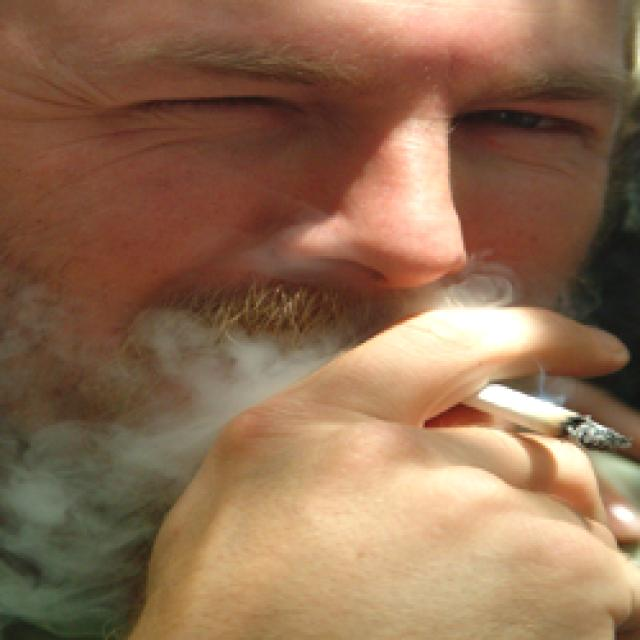Smooking: (471, 364, 632, 468)
